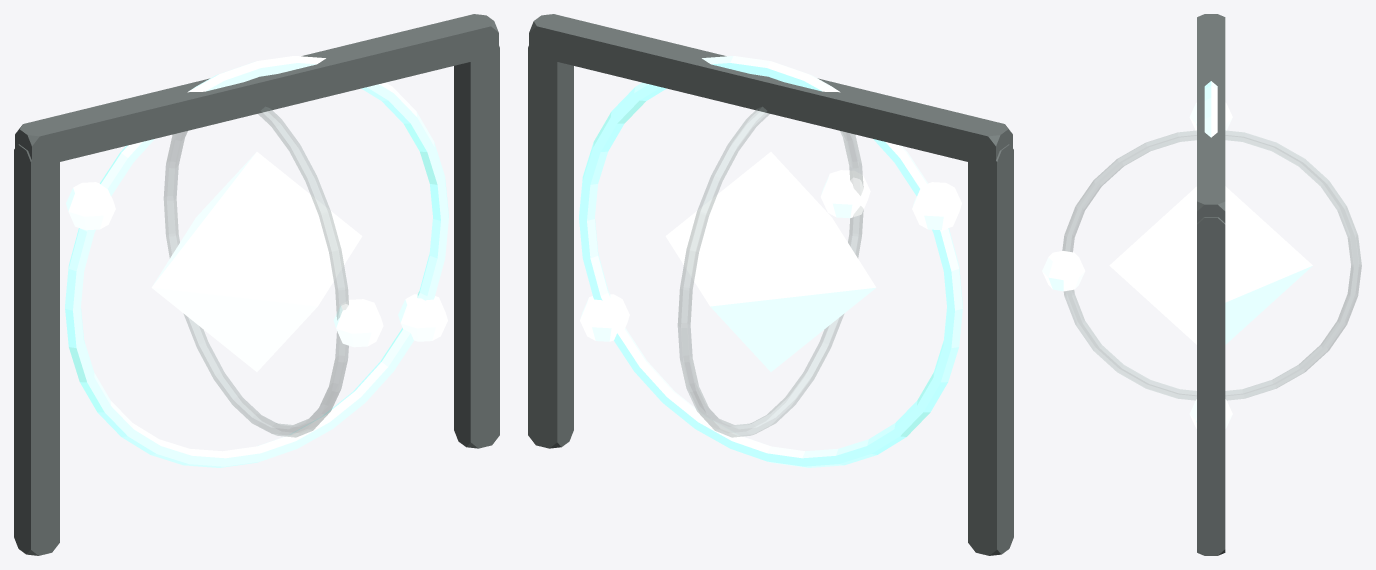
Rendered from agent-glyph.glb.
3 views of the same model, side by side, from view 1: azimuth 30°, elevation 25°; view 2: azimuth 150°, elevation 25°; view 3: azimuth 270°, elevation 25° (orthographic). The views are drawn at different scales.
Parts seen in each view (by area): view 1: Agent_Core, Agent_Frame_Top, Agent_Frame_Left, Agent_Frame_Right, Agent_Orbit_A, Agent_Orbit_B, Agent_Node_3, Agent_Node_1, Agent_Node_2; view 2: Agent_Core, Agent_Frame_Top, Agent_Frame_Left, Agent_Frame_Right, Agent_Orbit_A, Agent_Orbit_B, Agent_Node_3, Agent_Node_1, Agent_Node_2; view 3: Agent_Core, Agent_Frame_Right, Agent_Orbit_B, Agent_Frame_Top, Agent_Node_3, Agent_Orbit_A.
Part boxes in pixels (x1,y1,x2,y2): Agent_Core: [151, 152, 362, 371]; Agent_Frame_Top: [15, 14, 498, 166]; Agent_Frame_Left: [14, 144, 59, 555]; Agent_Frame_Right: [454, 41, 499, 448]; Agent_Orbit_A: [65, 56, 448, 467]; Agent_Orbit_B: [164, 107, 348, 437]; Agent_Node_3: [333, 299, 383, 347]; Agent_Node_1: [66, 182, 115, 230]; Agent_Node_2: [398, 294, 447, 341]; Agent_Core: [665, 152, 876, 371]; Agent_Frame_Top: [529, 14, 1012, 162]; Agent_Frame_Left: [968, 144, 1013, 555]; Agent_Frame_Right: [528, 41, 573, 448]; Agent_Orbit_A: [579, 56, 962, 467]; Agent_Orbit_B: [678, 107, 863, 437]; Agent_Node_3: [820, 170, 870, 218]; Agent_Node_1: [912, 182, 961, 230]; Agent_Node_2: [580, 294, 629, 341]; Agent_Core: [1109, 186, 1312, 344]; Agent_Frame_Right: [1197, 217, 1225, 555]; Agent_Orbit_B: [1062, 130, 1361, 400]; Agent_Frame_Top: [1197, 14, 1225, 222]; Agent_Node_3: [1042, 250, 1085, 291]; Agent_Orbit_A: [1204, 81, 1217, 137].
Bounding box in the file's own units: 2.09 × 1.85 × 1.47.
